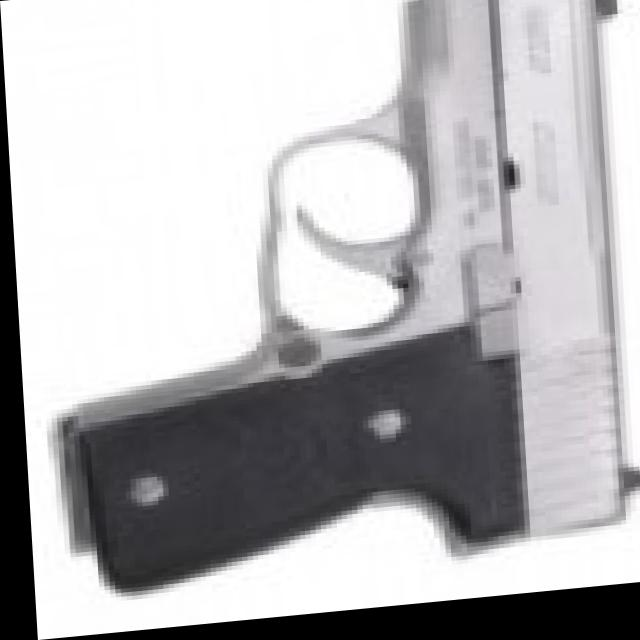handgun: (43, 0, 640, 601)
